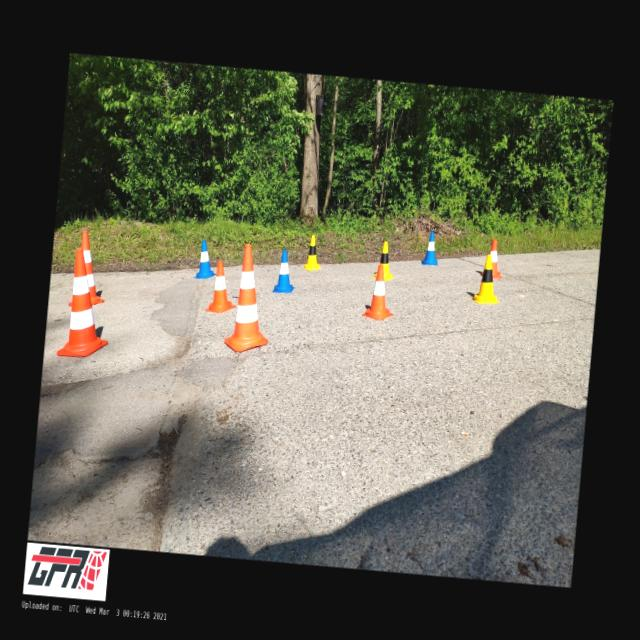blue_cone: (272, 248, 296, 293), (194, 240, 218, 280), (421, 230, 440, 266)
large_orange_cone: (56, 247, 115, 359), (223, 242, 276, 354), (68, 229, 110, 308)
orange_cone: (361, 263, 397, 321), (204, 259, 240, 314), (480, 238, 505, 278)
yellow_cone: (472, 252, 502, 304), (372, 240, 396, 282), (304, 233, 322, 270)
